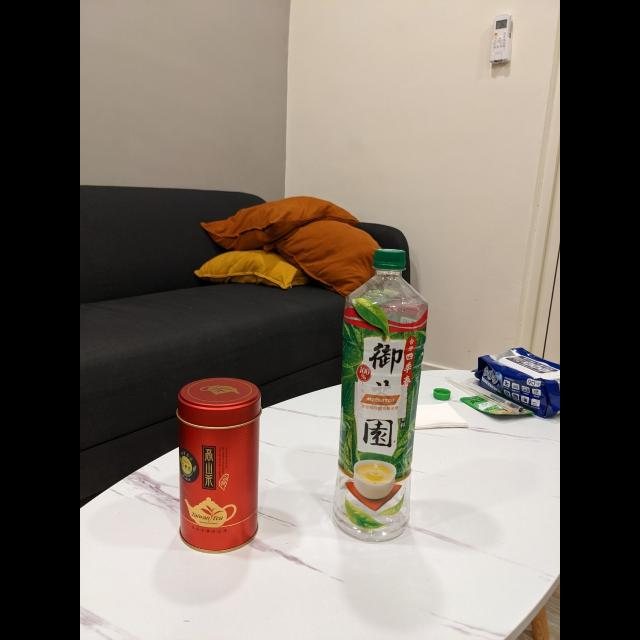trash: (331, 249, 425, 543)
